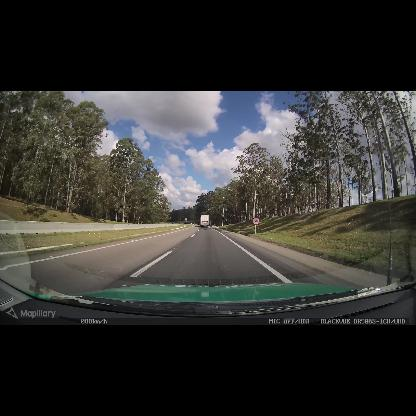R-19: (252, 217, 260, 225)
